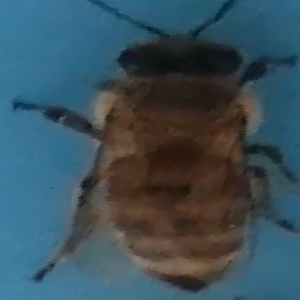bee: (38, 4, 293, 299)
